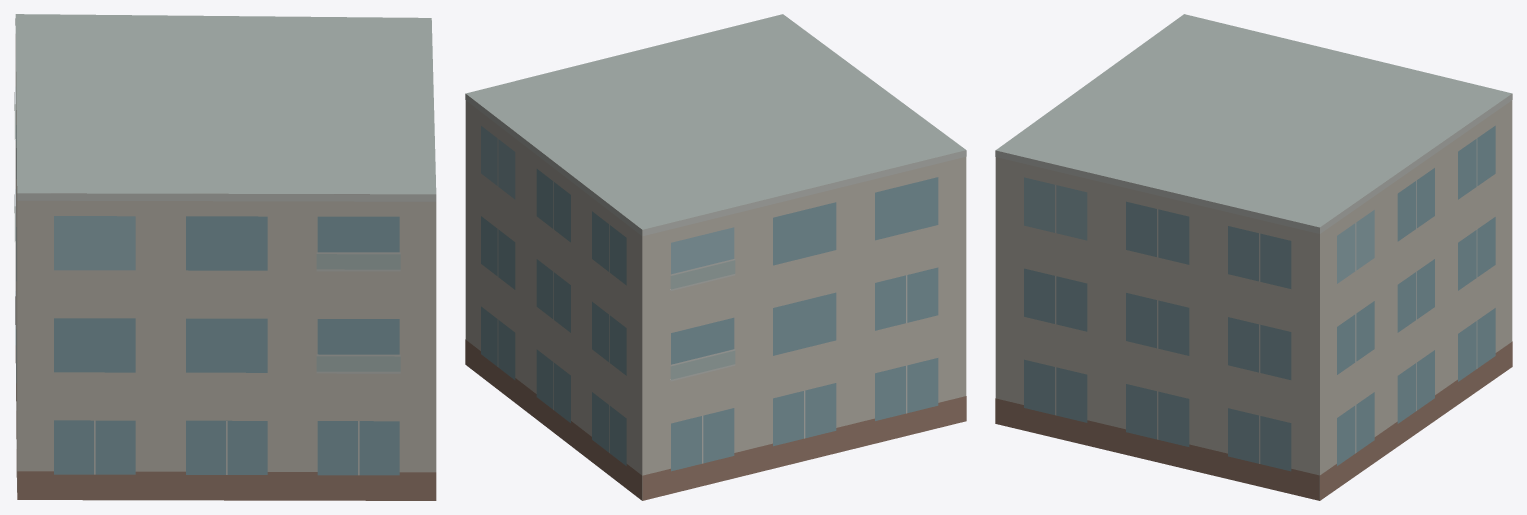
The model's file is survey-upis-32763673.glb.
3 views of the same model, side by side, from view 1: azimuth 30°, elevation 25°; view 2: azimuth 150°, elevation 25°; view 3: azimuth 270°, elevation 25° (orthographic). The views are drawn at different scales.
Parts seen in each view (by area): view 1: survey-upis-32763673.tmp; view 2: survey-upis-32763673.tmp; view 3: survey-upis-32763673.tmp.
Part boxes in pixels (<box>): survey-upis-32763673.tmp: <box>14,14,436,500</box>; survey-upis-32763673.tmp: <box>465,14,966,500</box>; survey-upis-32763673.tmp: <box>995,14,1512,500</box>.
Bounding box in the file's own units: 16.92 × 10.1 × 17.32.
